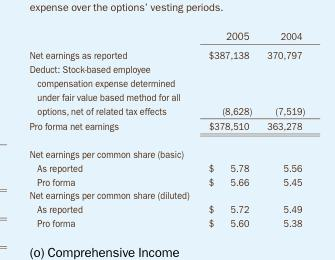table: (28, 29, 304, 228)
table column: (28, 29, 193, 228), (193, 29, 258, 228), (258, 29, 304, 228)
table column header: (28, 29, 304, 45)
table projected row header: (28, 139, 304, 160), (28, 188, 304, 201)
table row: (28, 61, 304, 118), (28, 118, 304, 139), (28, 139, 304, 160), (28, 29, 304, 45), (28, 45, 304, 61), (28, 160, 304, 174), (28, 174, 304, 188), (28, 201, 304, 215), (28, 188, 304, 201), (28, 215, 304, 228)
